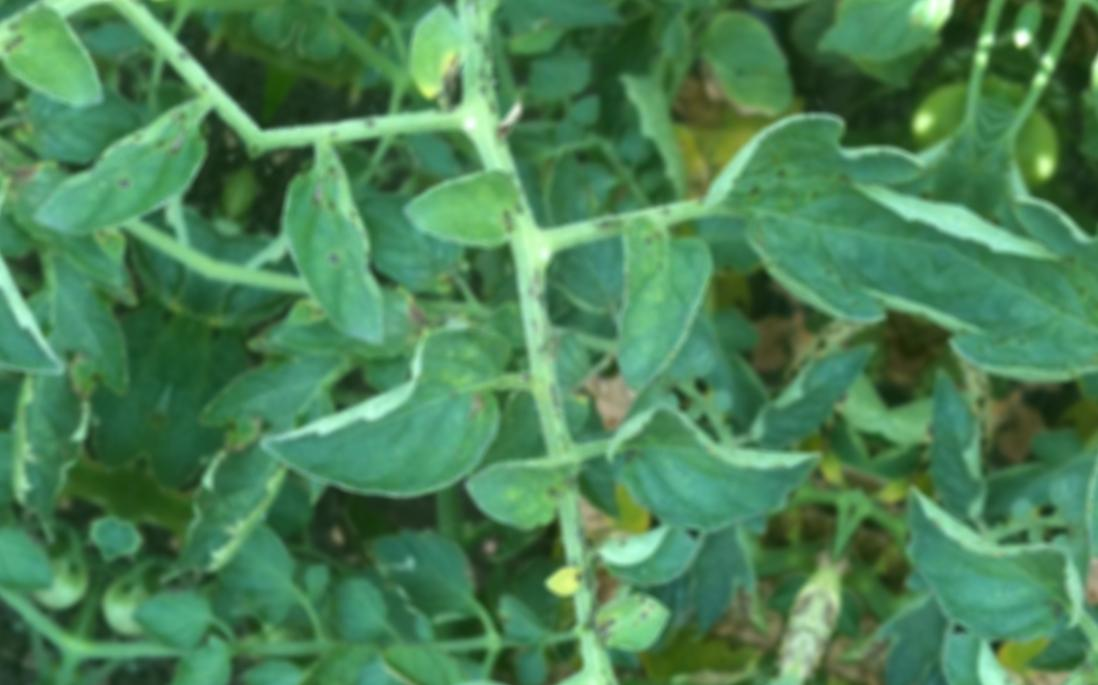Tomato leaf bacterial spot: (683, 56, 987, 353), (261, 265, 536, 550), (552, 177, 763, 442), (225, 121, 447, 359), (231, 566, 611, 685), (415, 0, 638, 72), (568, 568, 695, 685)
